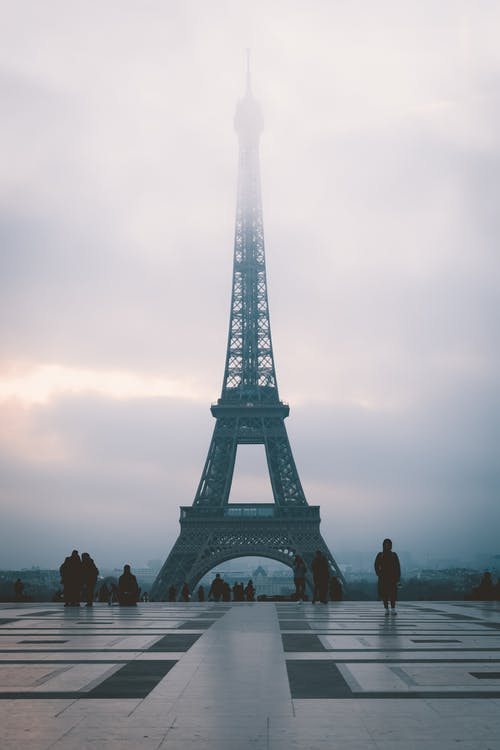eiffel tower: (134, 28, 352, 590)
